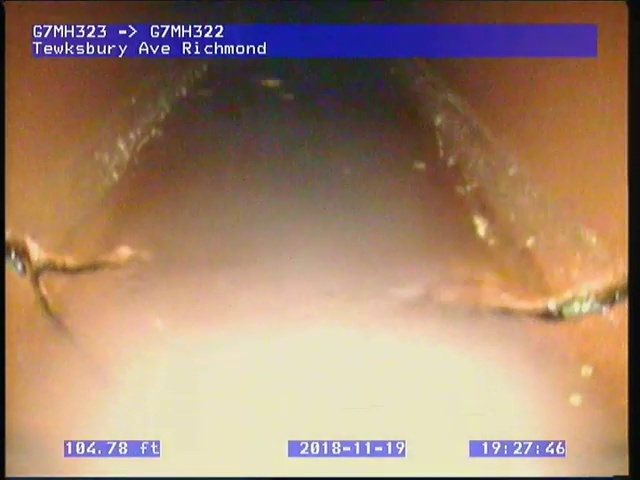crack: (5, 227, 136, 348), (489, 273, 627, 325)
